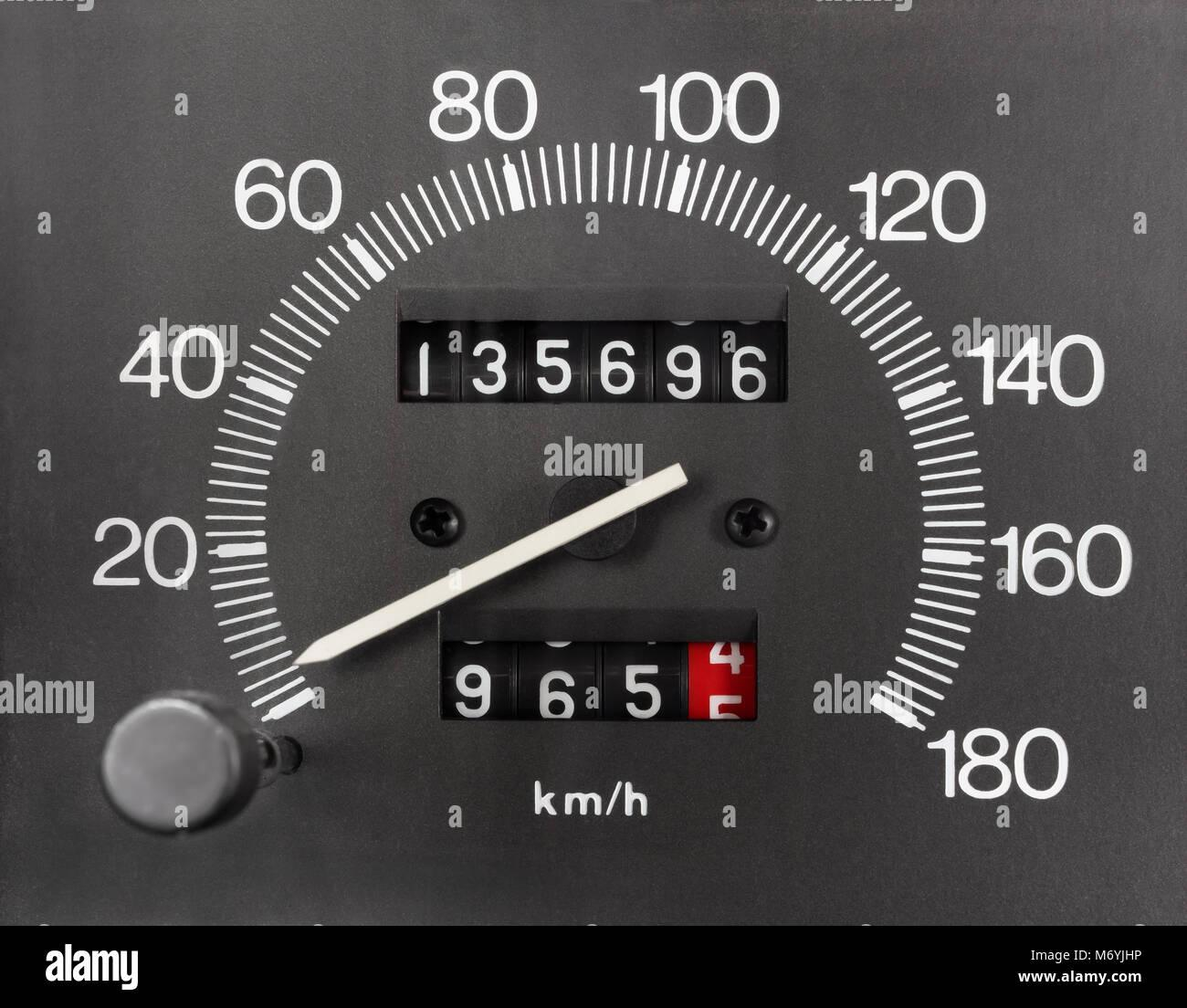1: (417, 340, 431, 398)
3: (469, 339, 508, 396)
5: (535, 339, 575, 396)
6: (728, 343, 768, 401), (599, 339, 636, 396)
9: (665, 343, 702, 400)
odometer: (391, 317, 795, 403)
